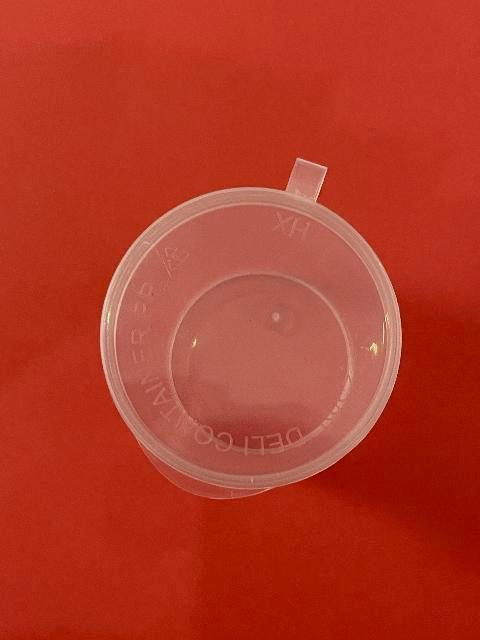plasticcontainer: (98, 151, 404, 501)
